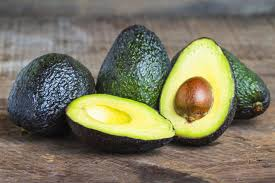aguacate: (177, 35, 274, 122), (5, 51, 97, 131), (97, 23, 175, 114)
